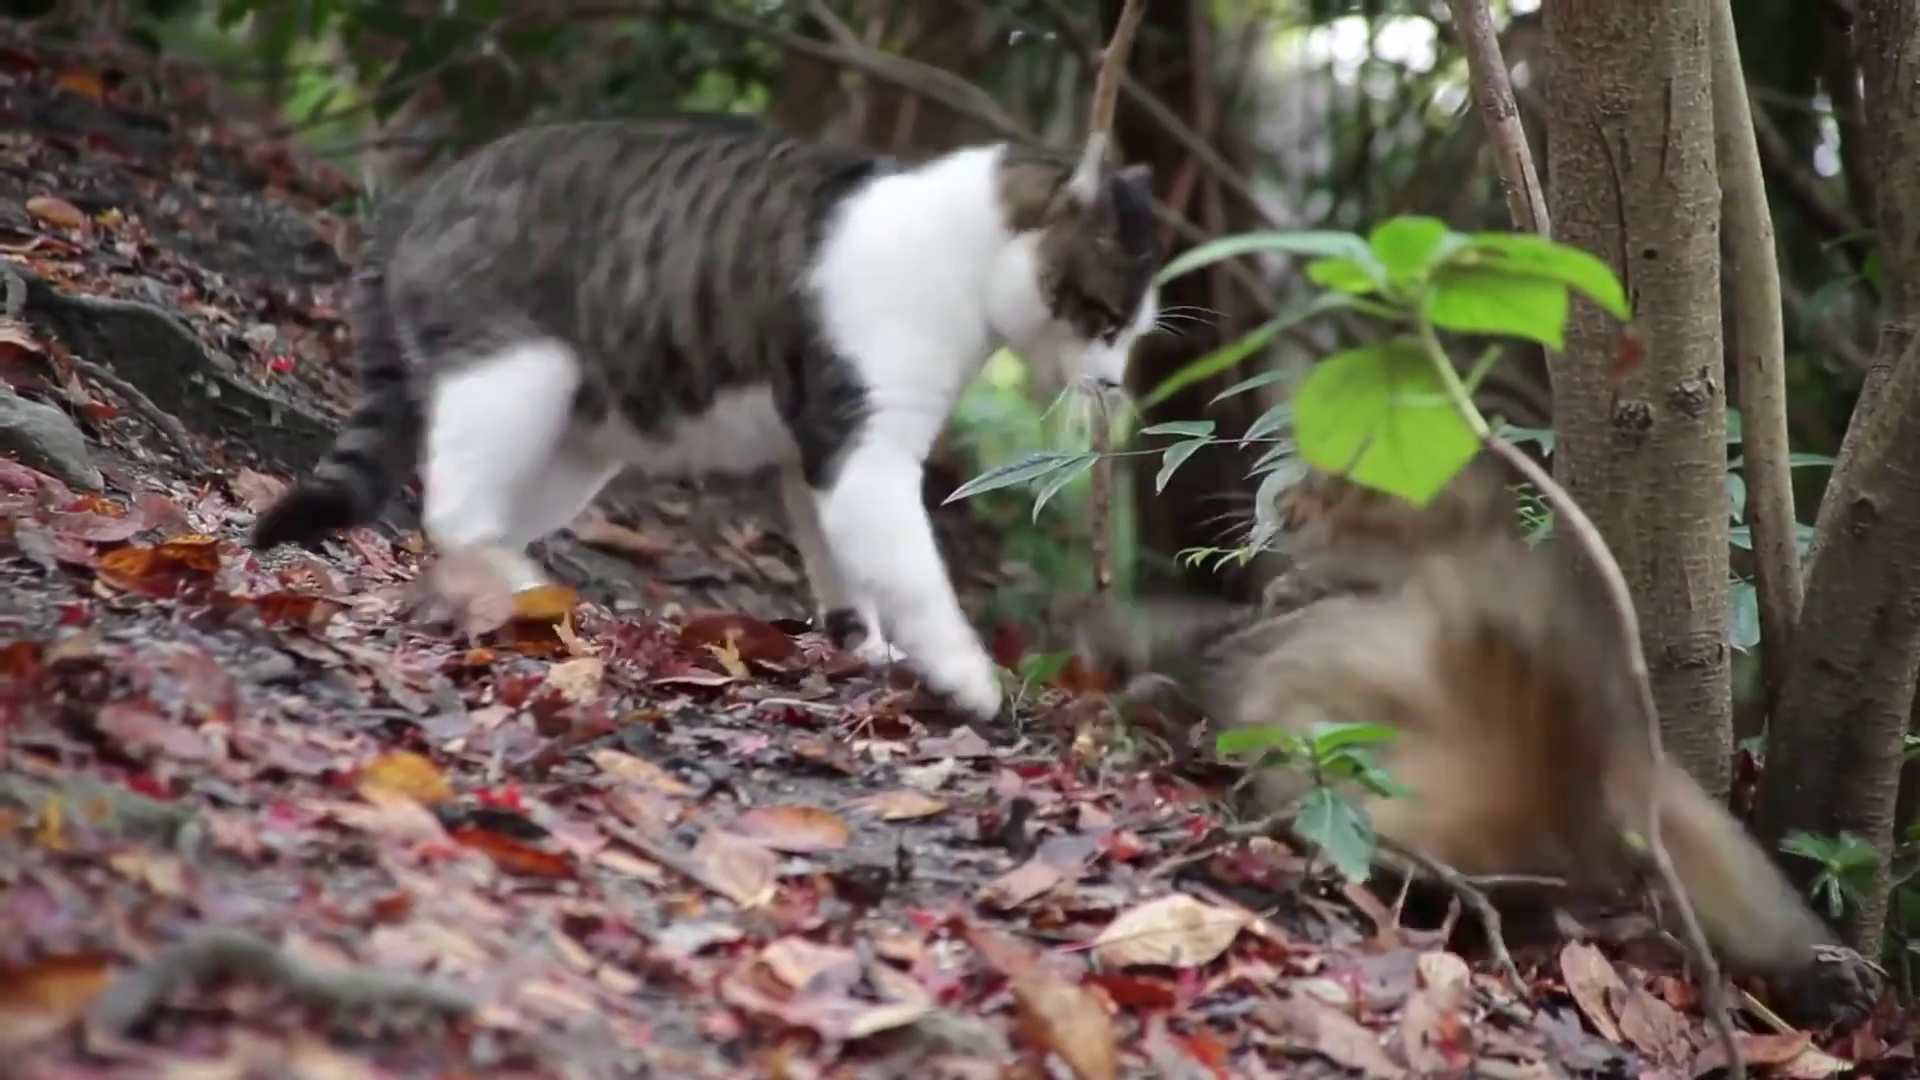black-white: (248, 113, 1160, 724)
pure black: (1226, 422, 1836, 969)
